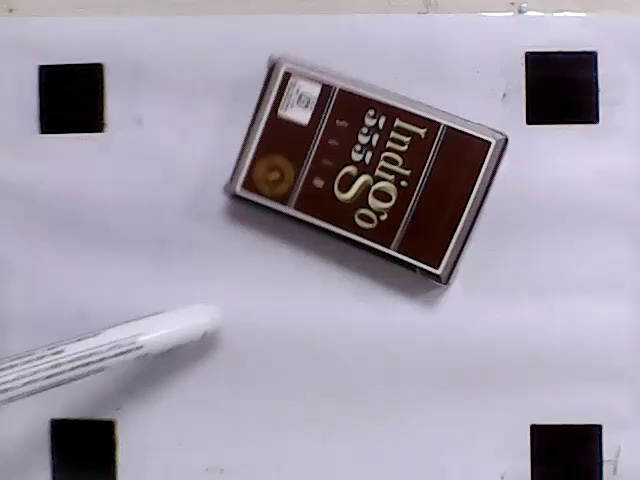BEX: (237, 65, 495, 271)
